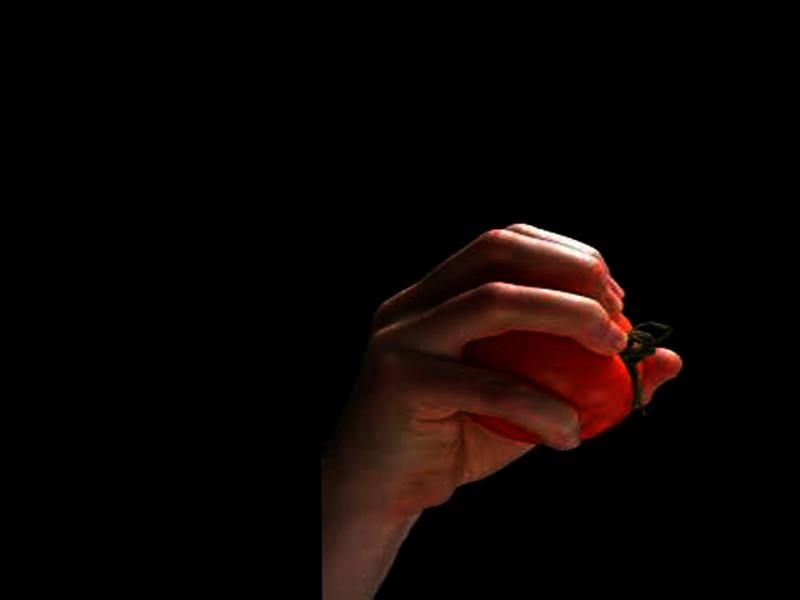Tomato: (456, 310, 635, 445)
